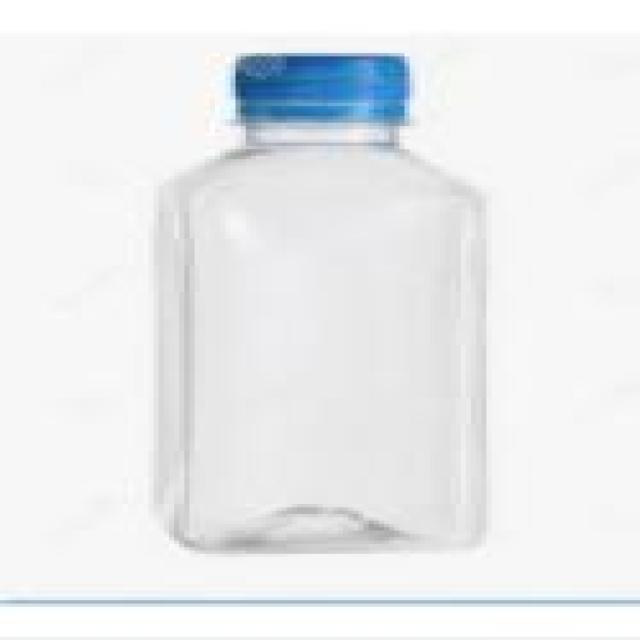bottle: (128, 40, 522, 564)
